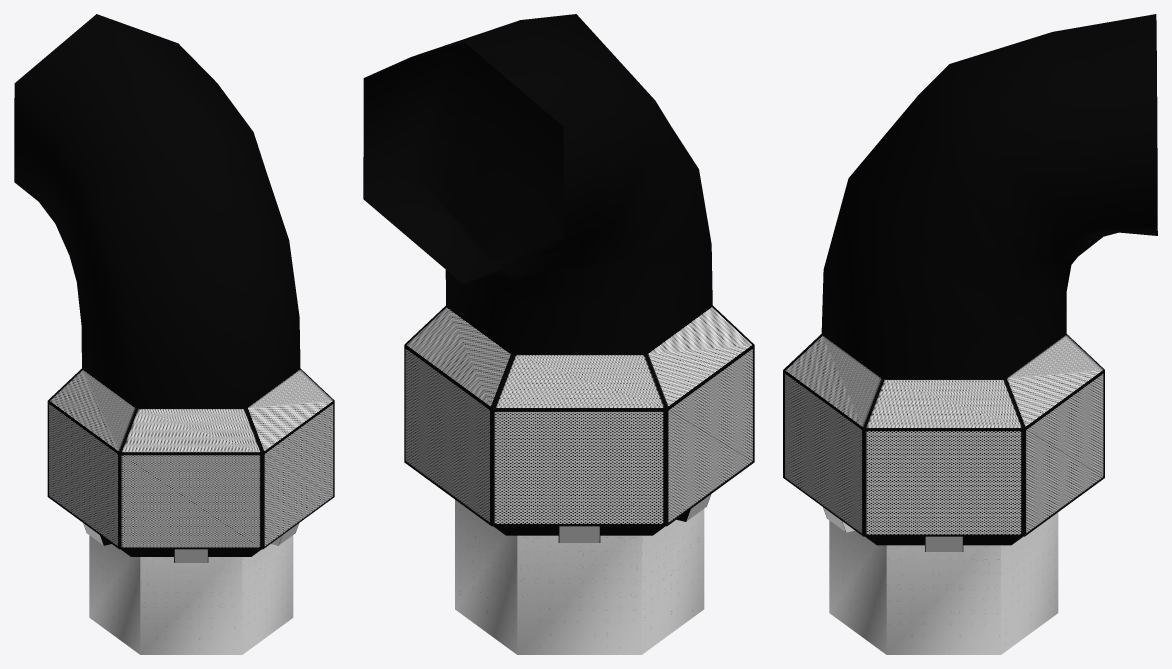
File: pm-upper-pipe.glb
3 views of the same model, side by side, from view 1: azimuth 30°, elevation 25°; view 2: azimuth 150°, elevation 25°; view 3: azimuth 270°, elevation 25° (orthographic). The views are drawn at different scales.
Parts seen in each view (by area): view 1: UpperPipe; view 2: UpperPipe; view 3: UpperPipe.
Part boxes in pixels (x1=…): UpperPipe: x1=14, y1=14, x2=334, y2=654; UpperPipe: x1=363, y1=14, x2=754, y2=654; UpperPipe: x1=783, y1=14, x2=1157, y2=654.
Bounding box in the file's own units: 1.81 × 4.3 × 2.44.
5 materials, 3 textured.
